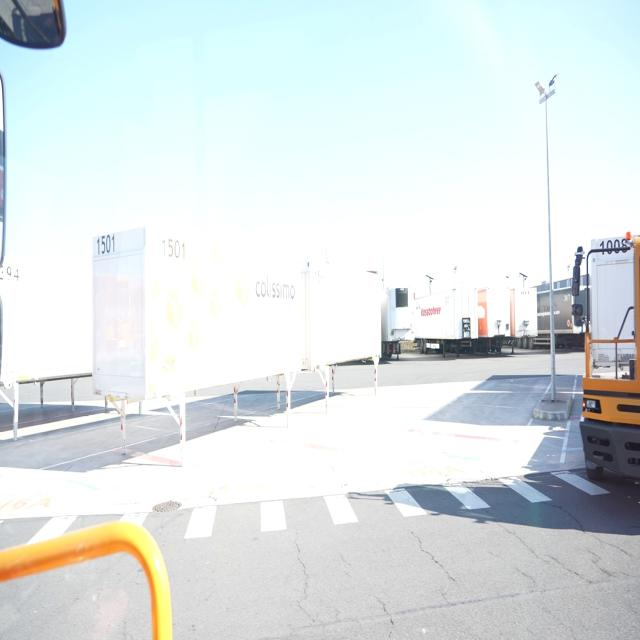Code: (159, 229, 191, 265), (94, 230, 119, 262)
